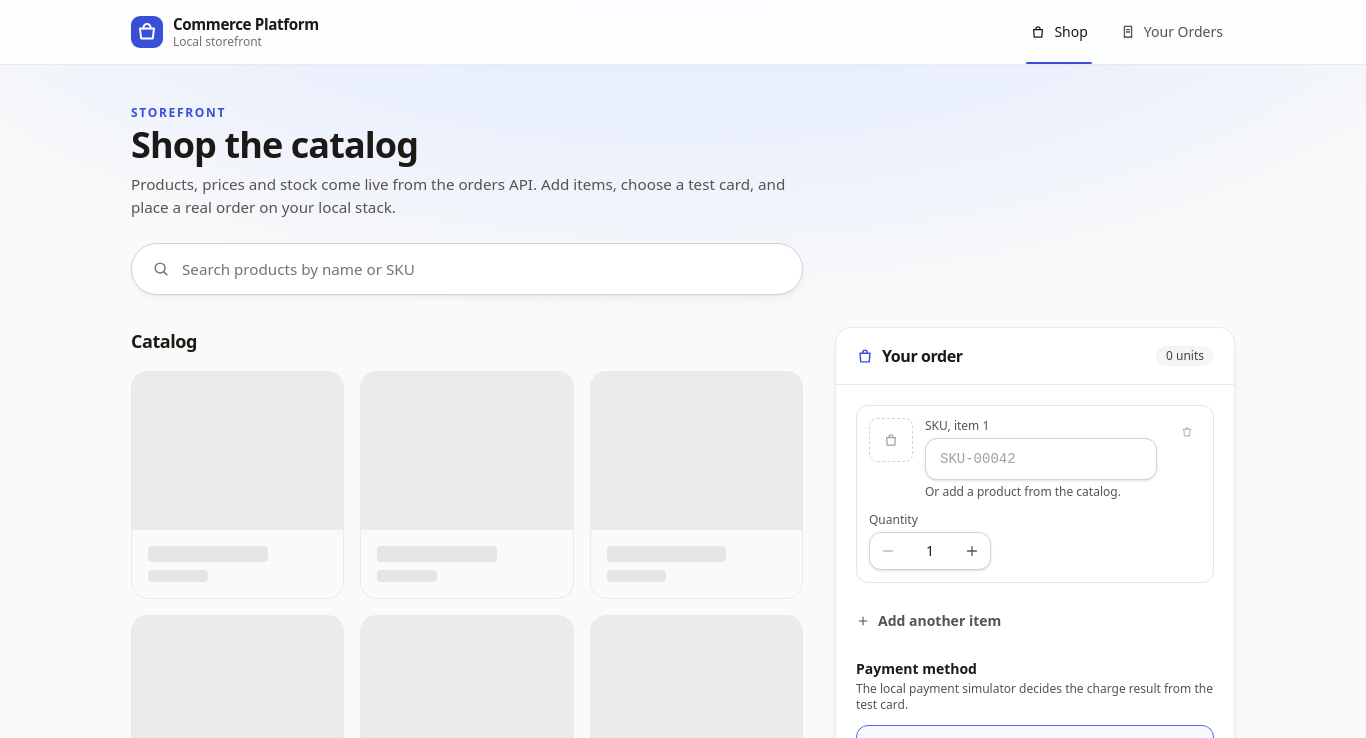
Test: product search: completeness and loading › adds a found product to the order without placing it
This screenshot has width=1366, height=738.
Type "quiet" into the dropdown labelled "Search products" at (482, 269), box [182, 244, 782, 294]
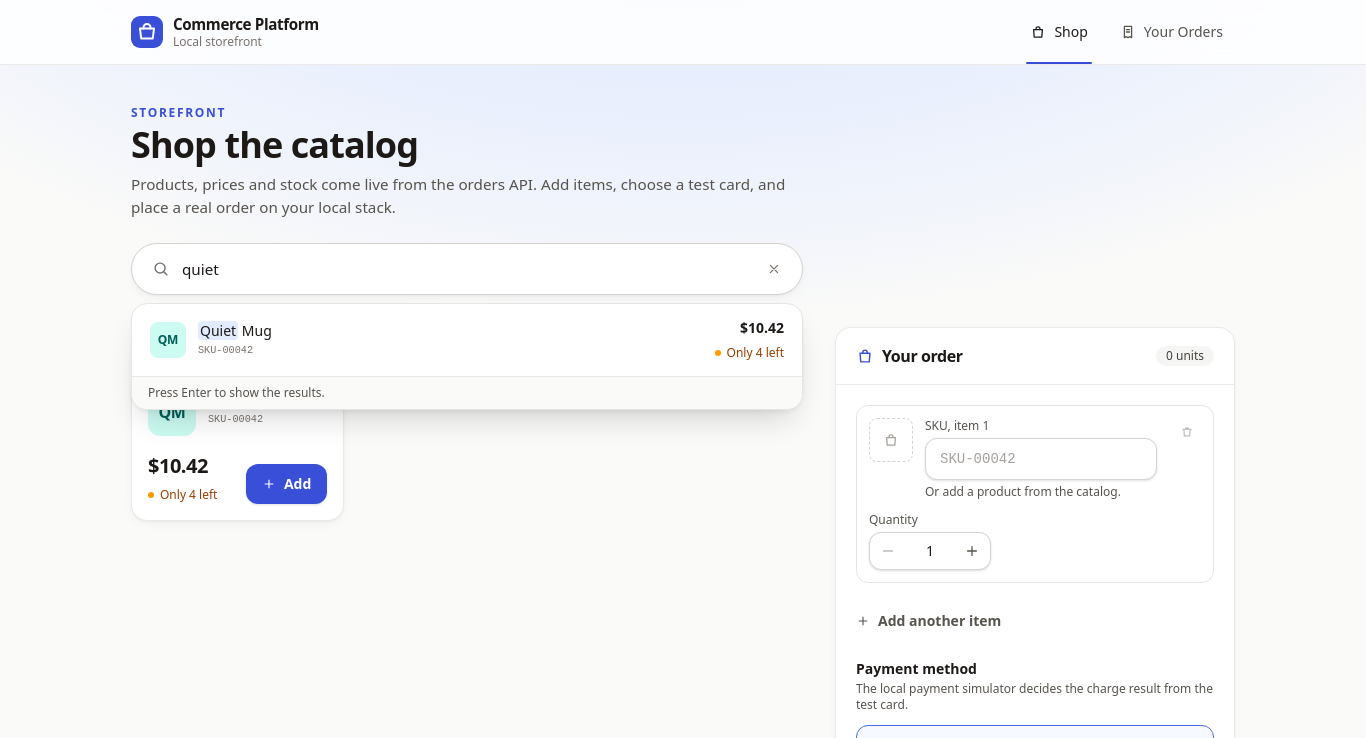
Expected: the number of options is 1, [138, 310, 796, 370]
Press ArrowDown in the dropdown named "Search products", box [182, 244, 746, 294]
Press Enter in the dropdown named "Search products", box [182, 244, 746, 294]
(page scrolled)
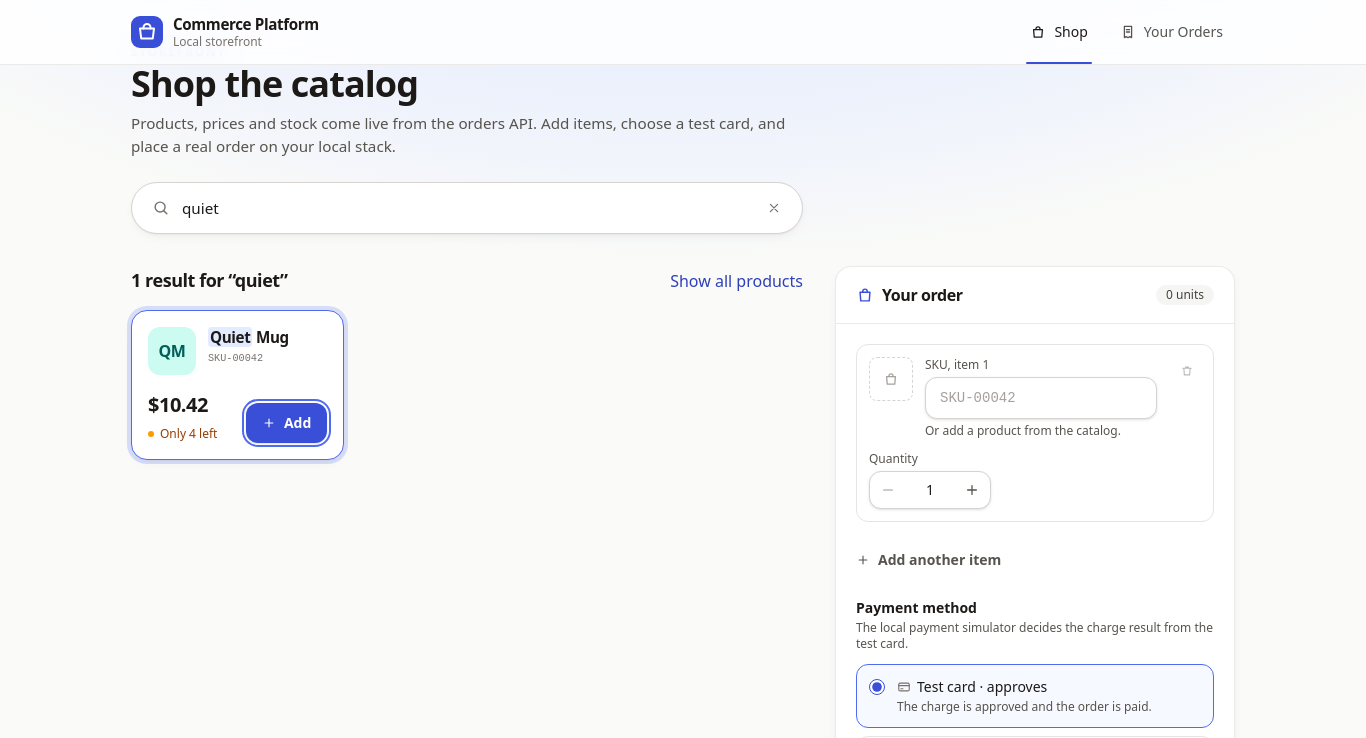
Click the button with aria-label "Add Quiet Mug (SKU-00042)" at (287, 423), box [246, 403, 327, 443]
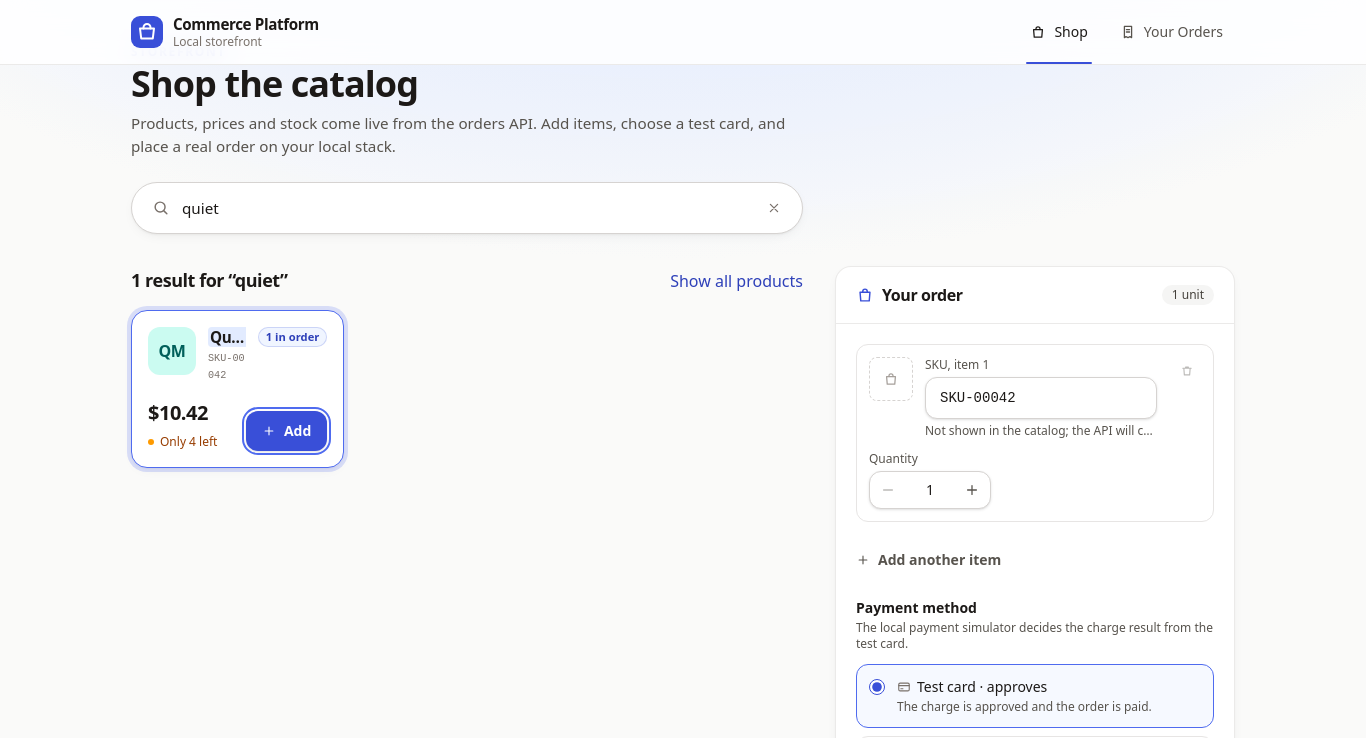
Expected: the list item that starts with "Quiet" shows "Only 4 left", [160, 433, 217, 450]
Expected: the field labelled "SKU, item 1" holds "SKU-00042", [925, 377, 1157, 419]
Expected: the list item that starts with "Quiet" shows "1 in order", [131, 310, 344, 468]
